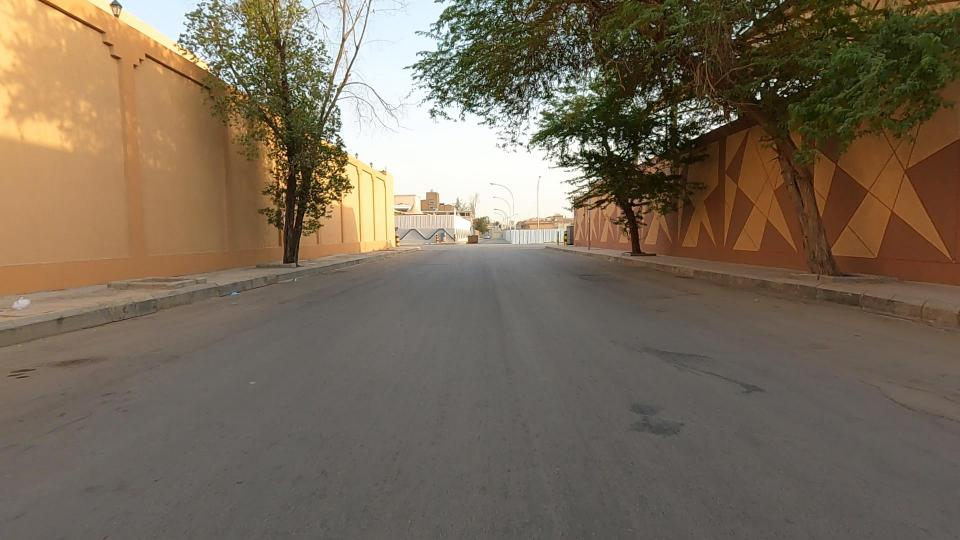GARBAGE: (0, 263, 63, 348), (203, 274, 270, 319)
